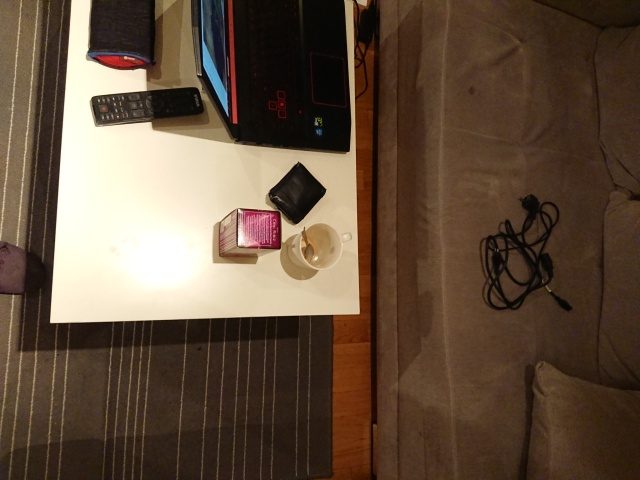Franck Black Currant Tea 60g: (216, 206, 285, 260)
